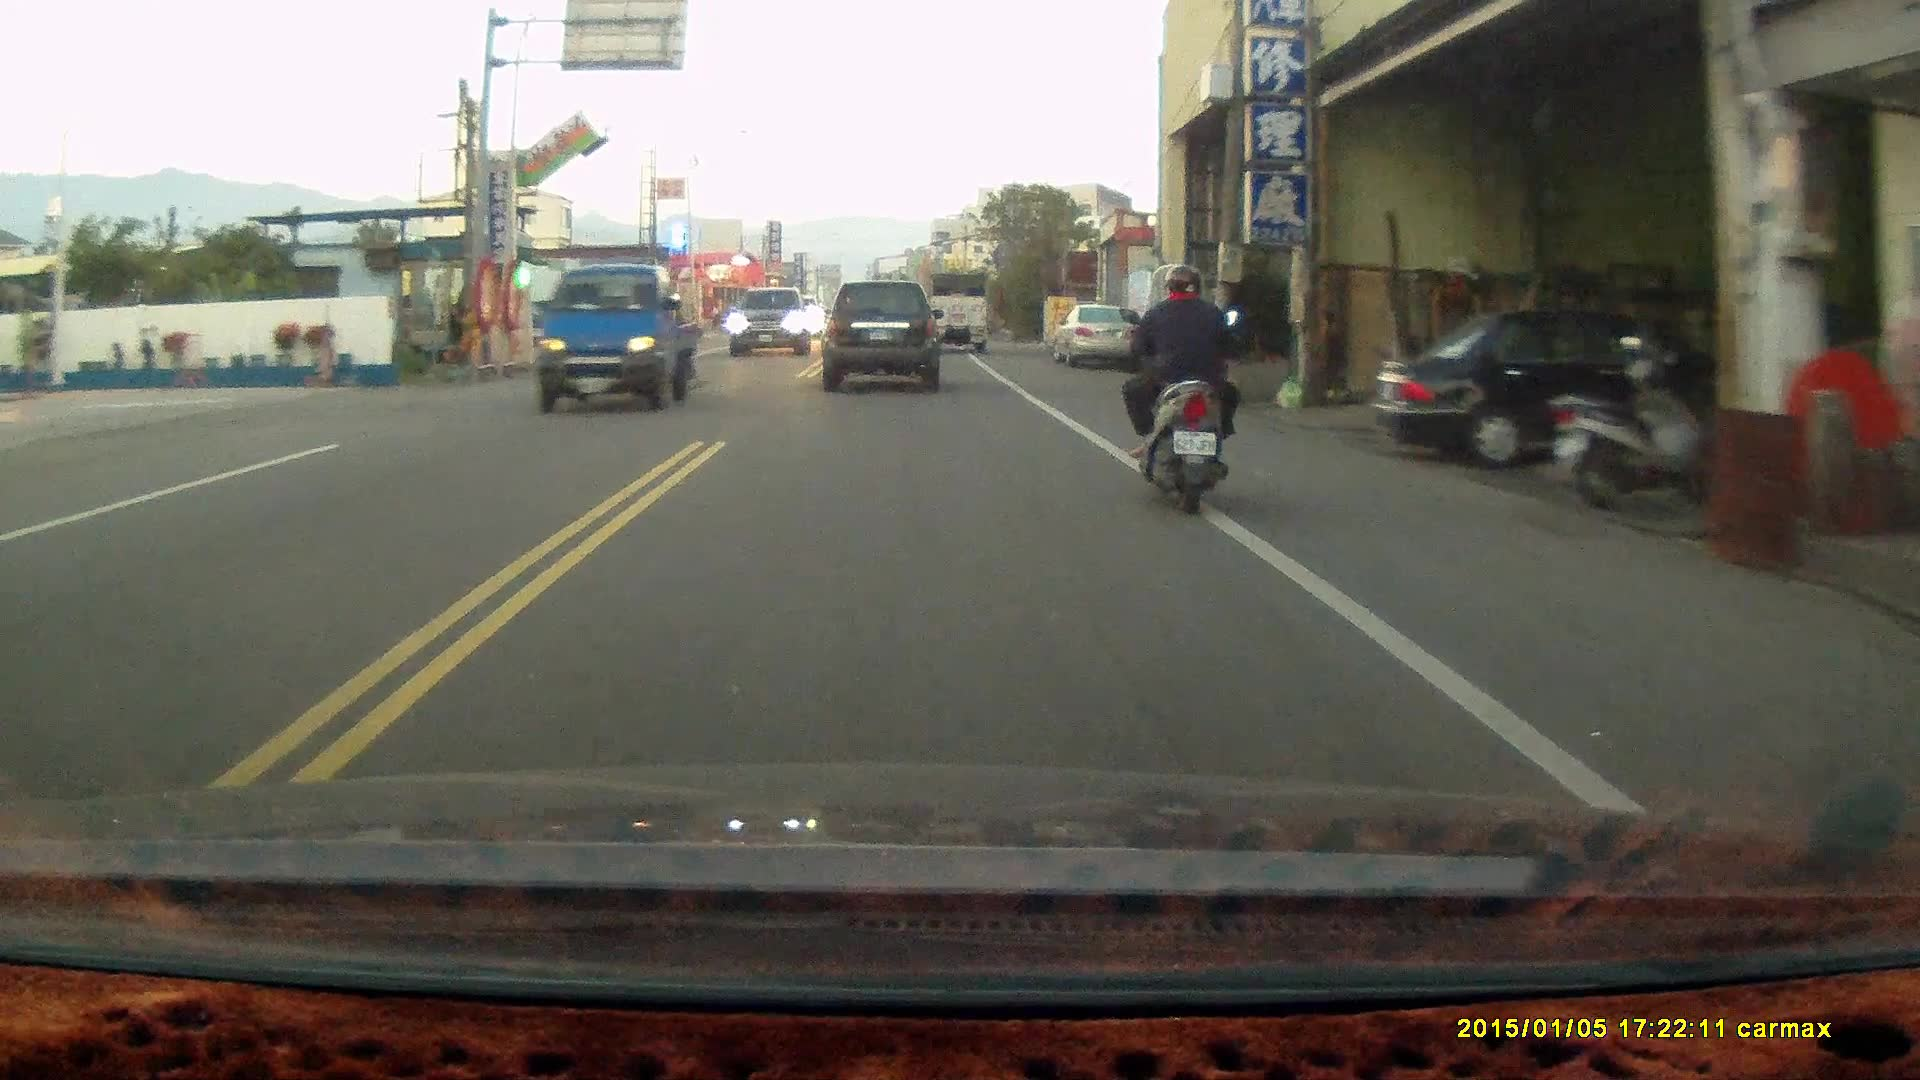rider: (1115, 260, 1239, 515)
vehicle: (1369, 300, 1754, 470), (533, 265, 702, 412), (824, 278, 942, 389), (1048, 301, 1146, 366), (731, 287, 816, 357), (923, 273, 991, 356)
